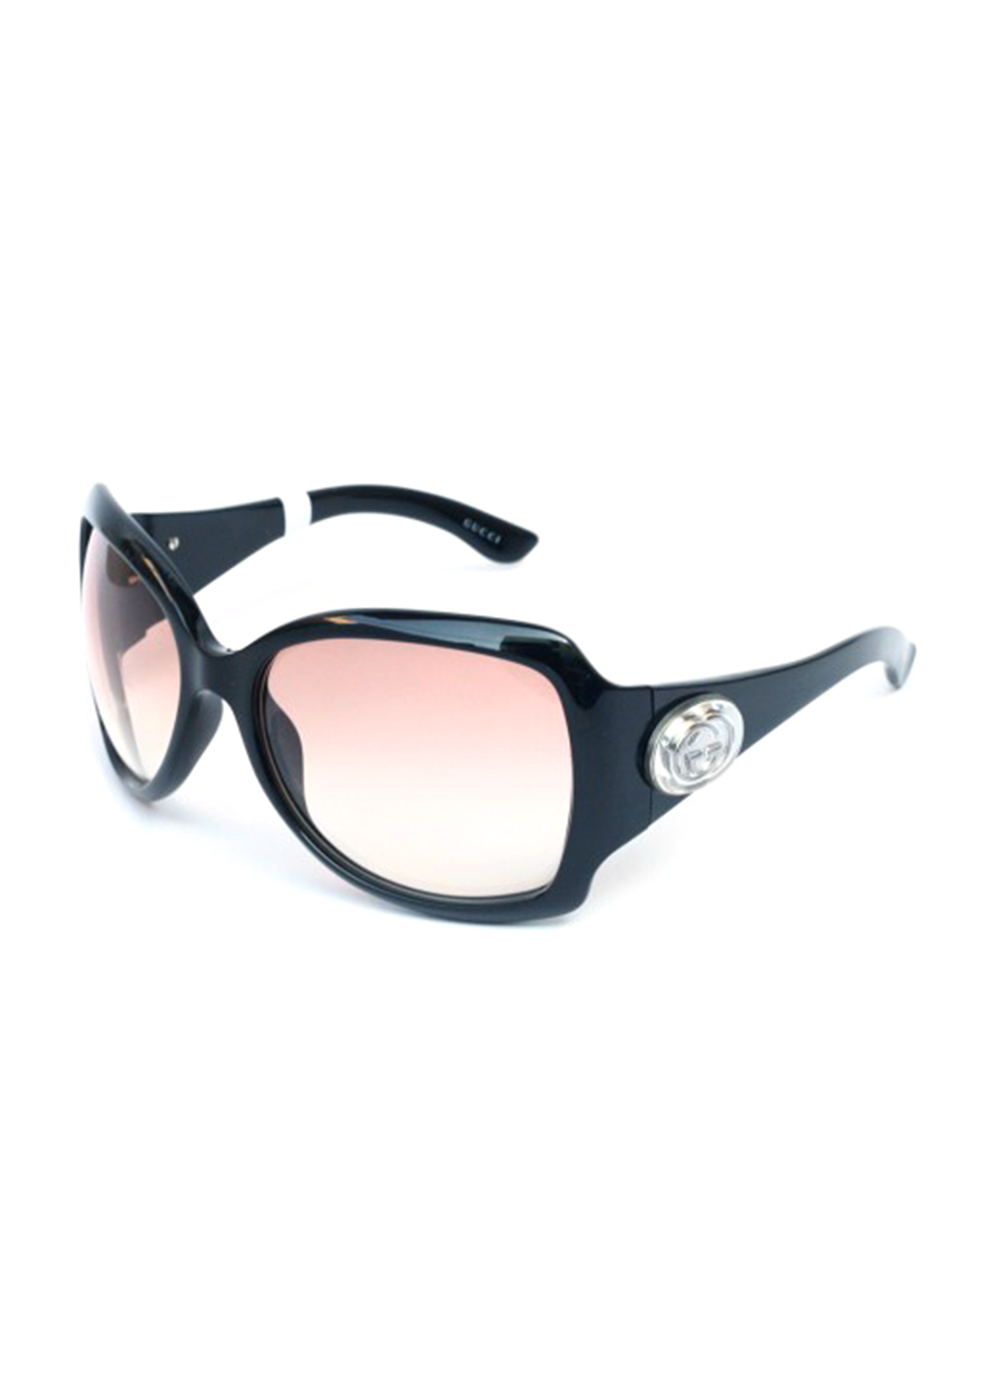Gucci: (641, 686, 753, 802), (453, 505, 514, 555)
